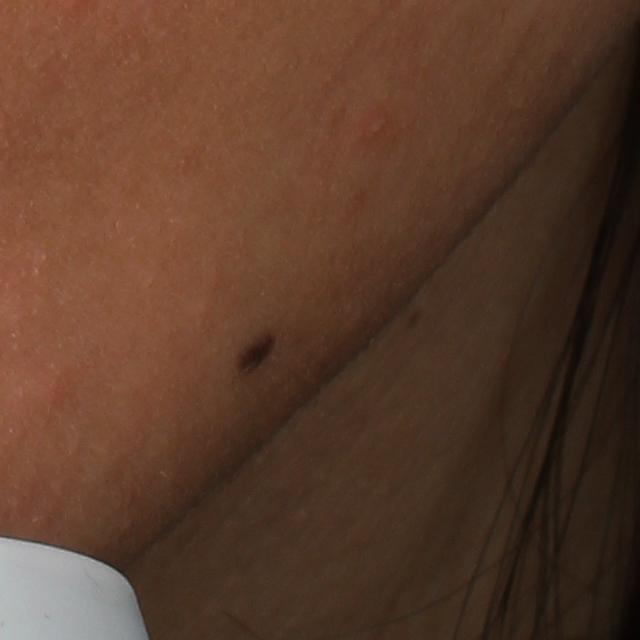nevus: (231, 328, 274, 382)
papule: (362, 106, 393, 141)
